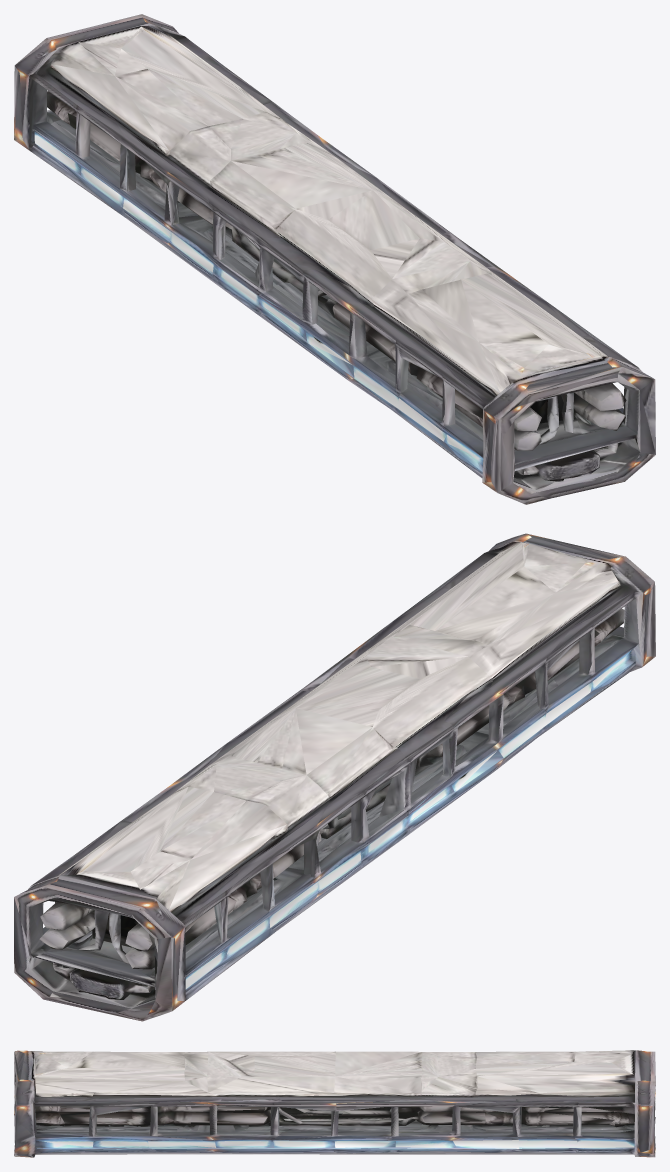
Rendered from ringSegment.glb.
3 views of the same model, one above another, from view 1: azimuth 30°, elevation 25°; view 2: azimuth 150°, elevation 25°; view 3: azimuth 270°, elevation 25° (orthographic). The views are drawn at different scales.
Parts seen in each view (by area): view 1: ringSegment; view 2: ringSegment; view 3: ringSegment.
Part boxes in pixels (x1,y1,x2,y2): ringSegment: (14,14,655,504); ringSegment: (14,533,655,1021); ringSegment: (14,1050,655,1157).
Bounding box in the file's own units: 20 × 14 × 104.
1 material, 1 textured.
